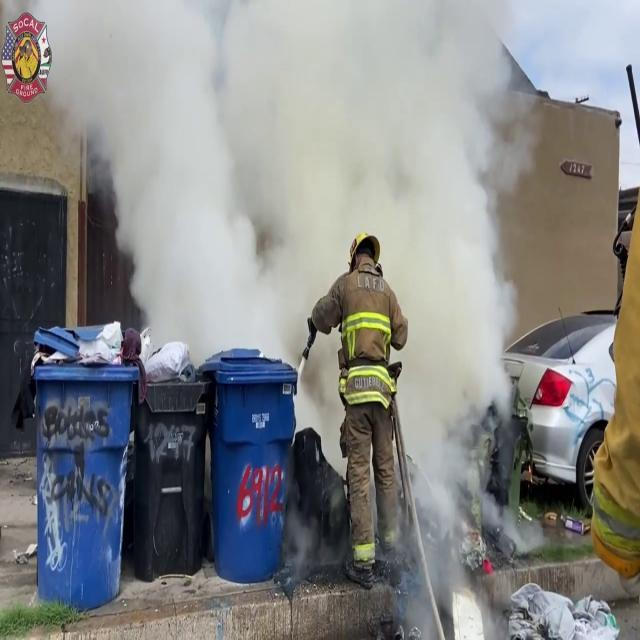Smoke: (80, 0, 536, 351)
